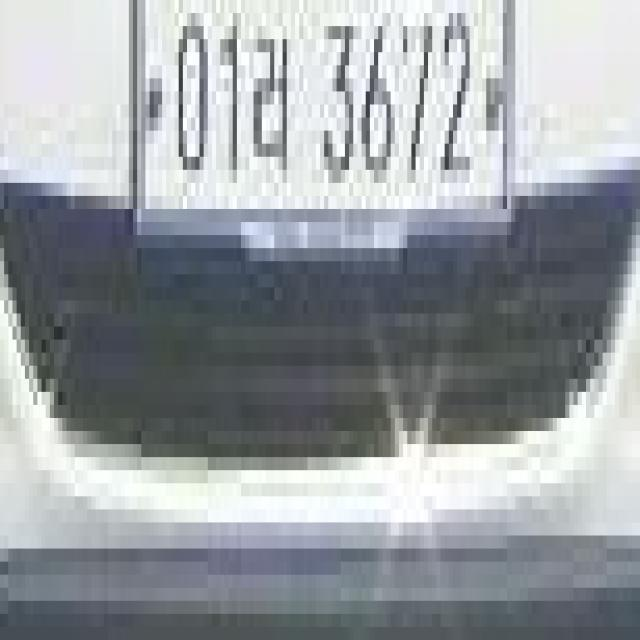0: (176, 18, 210, 185)
1: (217, 2, 242, 192)
2: (437, 7, 477, 194)
3: (313, 8, 357, 191)
6: (360, 22, 394, 190)
7: (400, 8, 432, 180)
leo: (250, 23, 292, 187)
license_plate: (130, 0, 514, 248)
